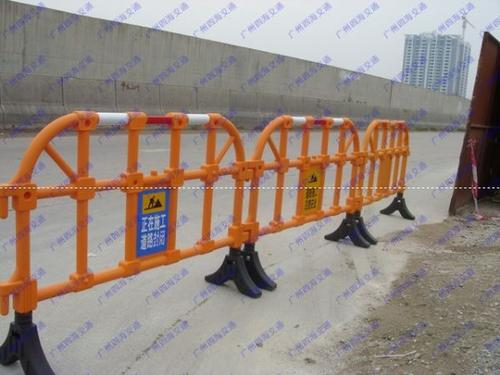sign: (8, 106, 412, 321)
